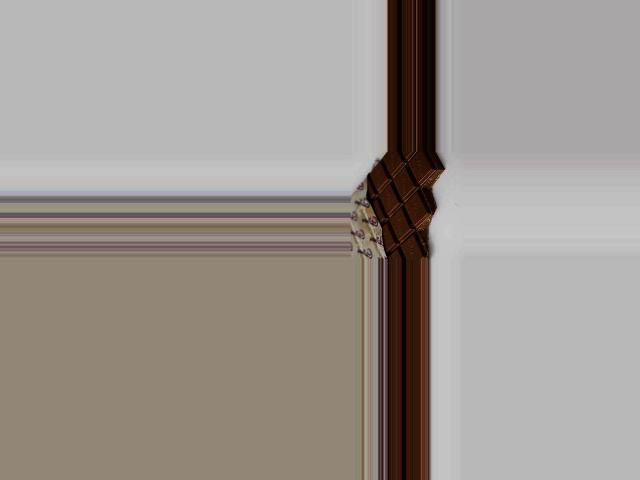chocolate: (351, 152, 436, 259)
